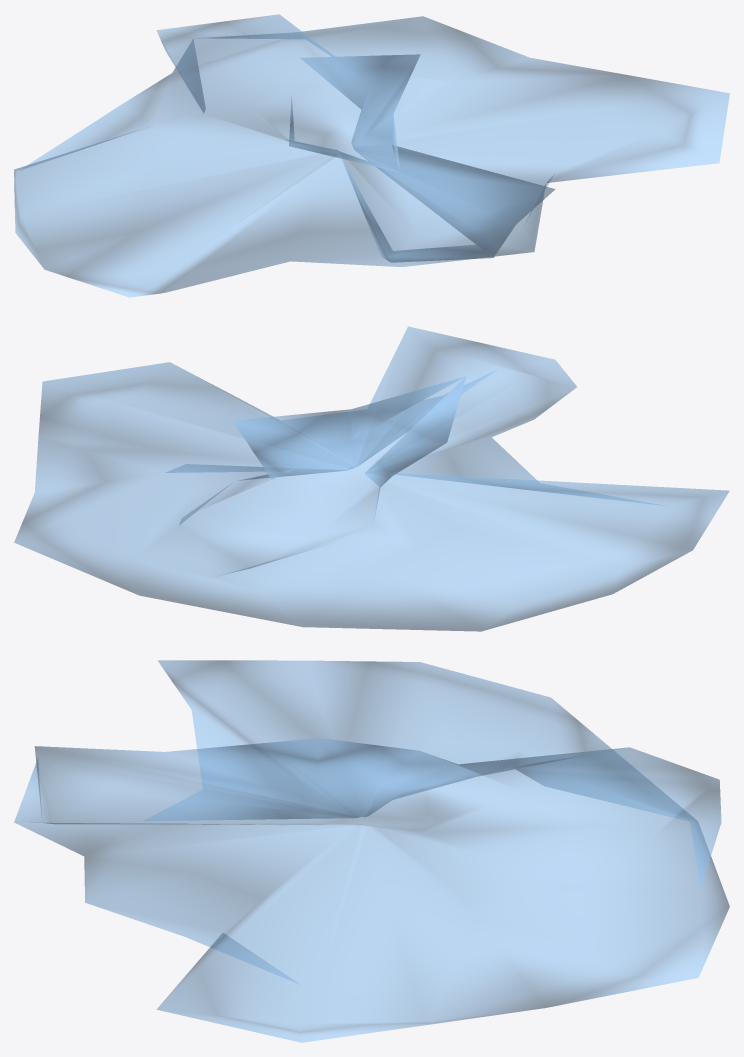
File: ssaurora_shield.gltf
3 renders of one model, top to bottom at view 1: azimuth 30°, elevation 25°; view 2: azimuth 150°, elevation 25°; view 3: azimuth 270°, elevation 25°, orthographic. The views are drawn at different scales.
Parts seen in each view (by area): view 1: ssaurora.shield; view 2: ssaurora.shield; view 3: ssaurora.shield.
Part boxes in pixels (x1=…): ssaurora.shield: x1=14, y1=14, x2=729, y2=297; ssaurora.shield: x1=14, y1=326, x2=729, y2=631; ssaurora.shield: x1=14, y1=660, x2=729, y2=1042.
Bounding box in the file's own units: 26.53 × 3.64 × 20.39.
